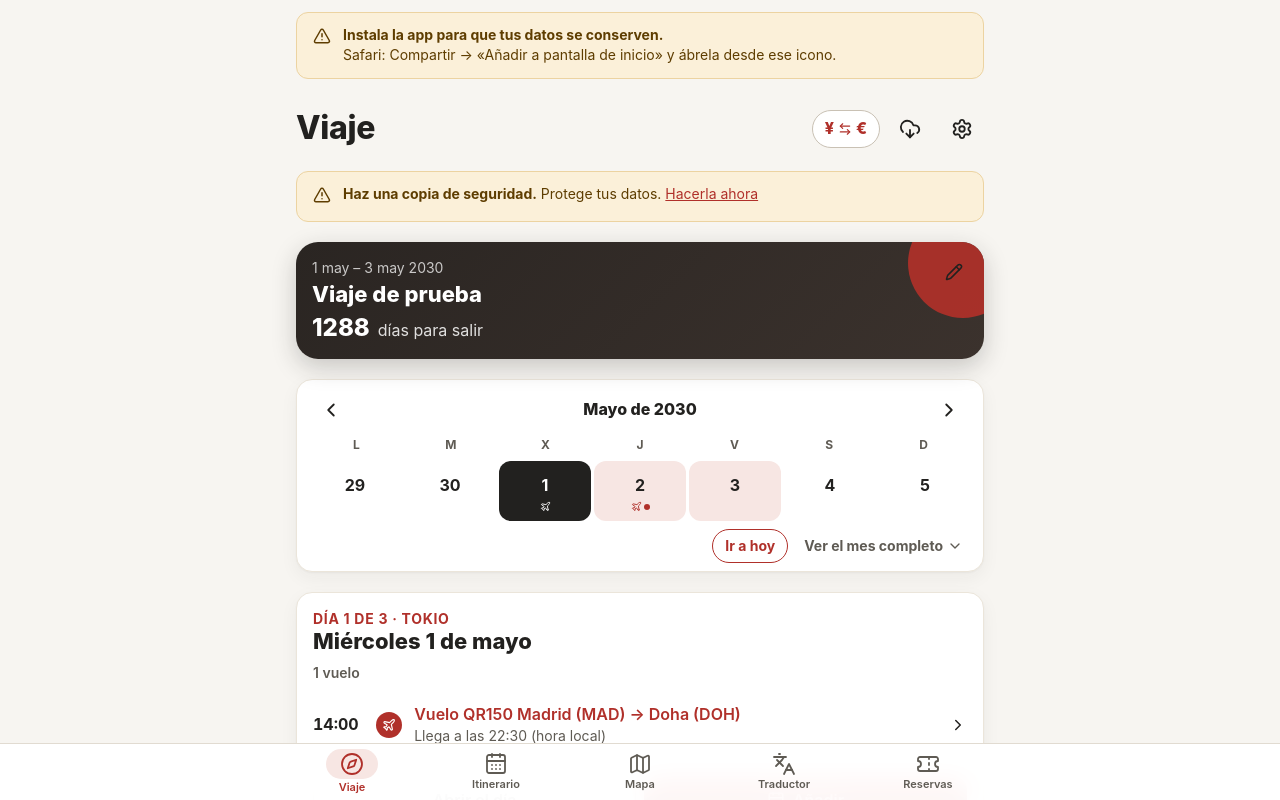
Scenario: itinerario, día de vuelo y calendario › en la vista de semana las flechas cambian de semana sin cambiar el día elegido
Expected: the heading "Mayo de 2030" is shown, [583, 400, 697, 419]
Click the button named "Semana siguiente" at (949, 410), box [927, 388, 971, 432]
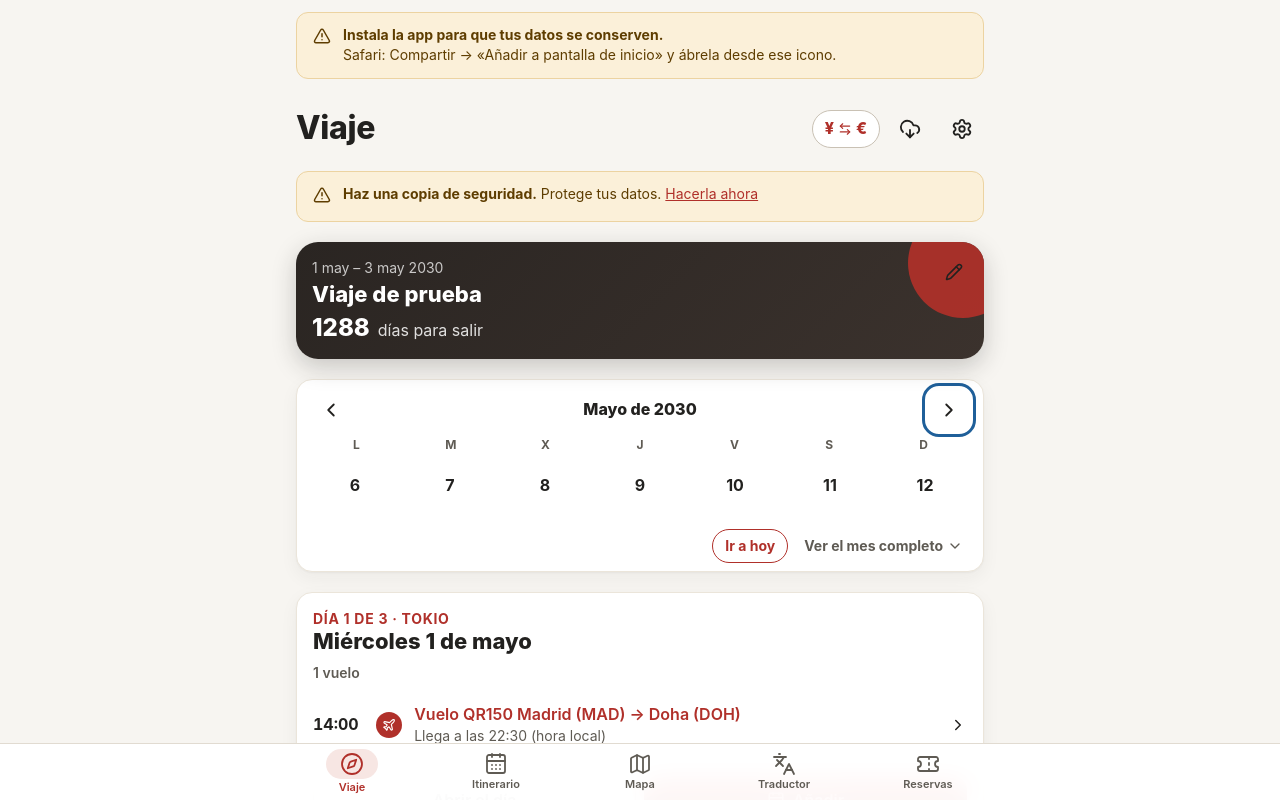
Now the button named "viernes 10 de mayo" is shown, box [689, 461, 781, 521]
Click the button named "Semana anterior" at (331, 410), box [309, 388, 353, 432]
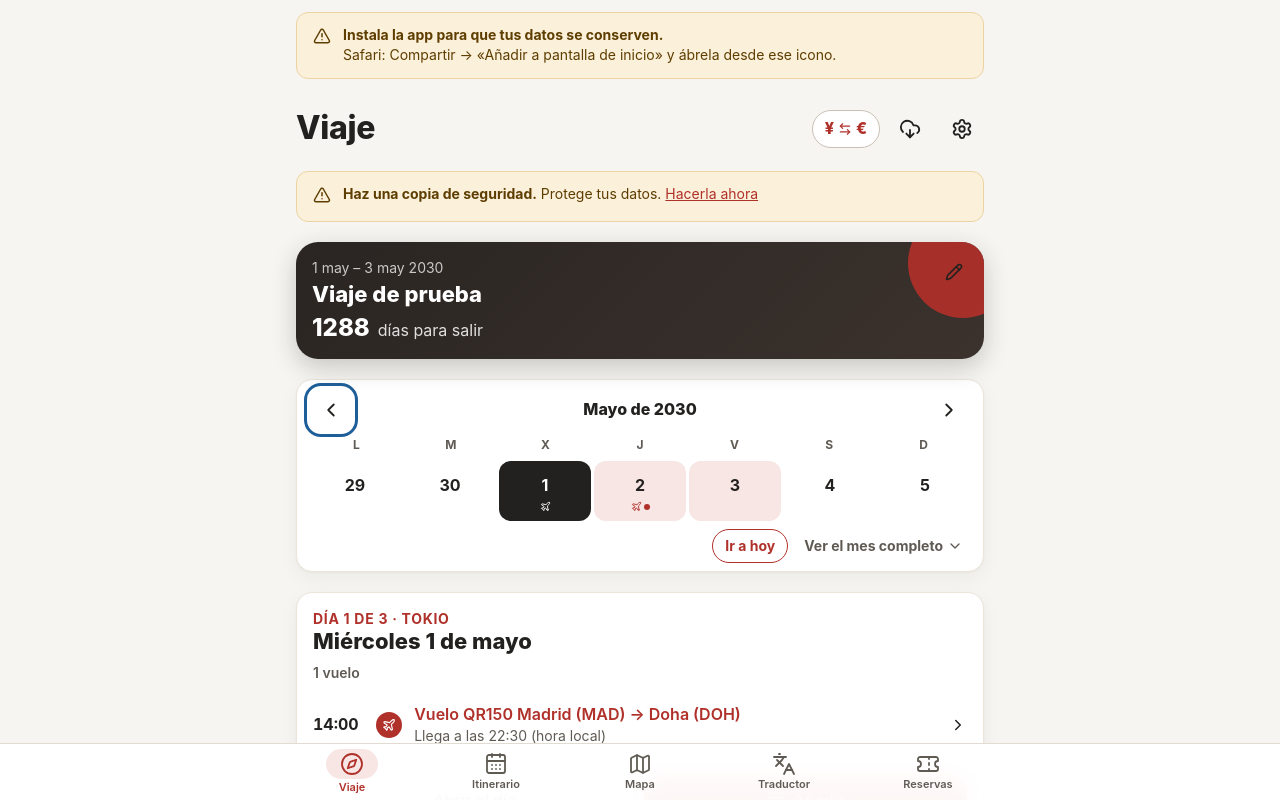
Now the button named "jueves 2 de mayo" is shown, box [594, 461, 686, 521]
